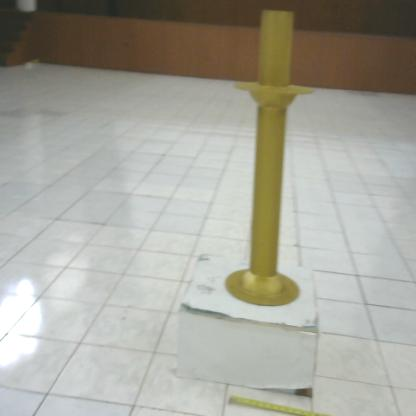pole: (224, 7, 323, 313)
